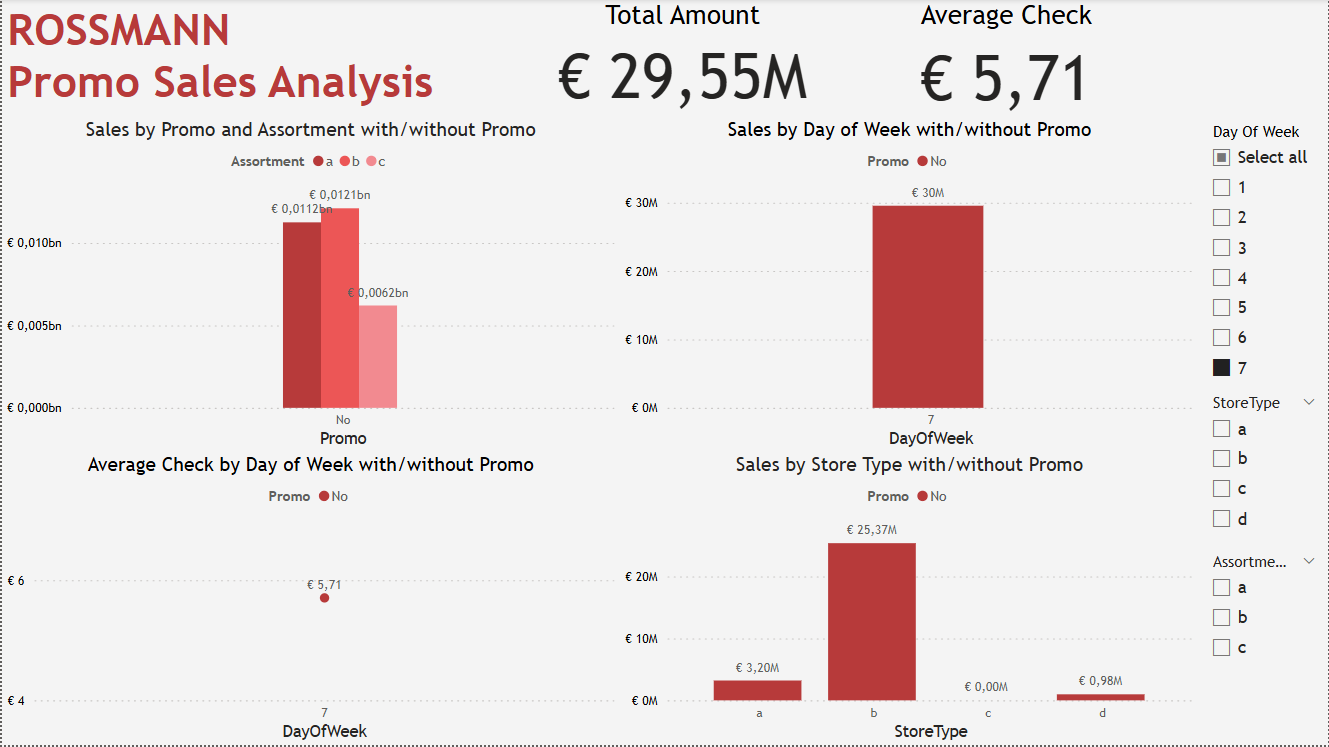

This screenshot's page, from the dashboard's own definition file:
{"tool":"powerbi","page":{"name":"Promo Sales","canvas":[1280,720],"ordinal":0},"visuals":[{"type":"clusteredColumnChart","title":"Sales by Promo and Assortment with/without Promo","fields":{"Category":["train.Promo"],"Y":["Sum(train.Sales)"],"Series":["store.Assortment"]},"box":[0,114.6,596,323.3],"z":0},{"type":"clusteredColumnChart","title":"Sales by Day of Week with/without Promo","fields":{"Category":["train.DayOfWeek"],"Y":["Sum(train.Sales)"],"Series":["train.Promo"]},"box":[596,114.6,559.8,323.3],"z":1000},{"type":"areaChart","title":"Average Check by Day of Week with/without Promo","fields":{"Category":["train.DayOfWeek"],"Y":["train.AvgCheck"],"Series":["train.Promo"]},"box":[0,437.9,596,282.3],"z":2000},{"type":"clusteredColumnChart","title":"Sales by Store Type with/without Promo","fields":{"Category":["store.StoreType"],"Y":["Sum(train.Sales)"],"Series":["train.Promo"]},"box":[596,437.9,559.8,282.3],"z":3000},{"type":"slicer","fields":{"Values":["train.DayOfWeek"]},"box":[1155.8,114.6,124.3,261.8],"z":4000},{"type":"slicer","fields":{"Values":["store.StoreType"]},"box":[1155.8,376.4,124.3,179.8],"z":5000},{"type":"slicer","fields":{"Values":["store.Assortment"]},"box":[1155.8,529.6,124.3,154.4],"z":6000},{"type":"textbox","box":[0,0,520,114.6],"z":7000},{"type":"card","title":"Total Amount","fields":{"Values":["Sum(train.Sales)"]},"box":[504.3,0,305.2,114.6],"z":8000},{"type":"card","title":"Average Check","fields":{"Values":["train.AvgCheck"]},"box":[856.6,0,225.6,114.6],"z":9000}]}

Visuals, with their boxes in screenshot pixels (x1, y1, x2, y2), scaled from the page's 1280x720 canvas onto the 1329x747 screenshot:
"Sales by Promo and Assortment with/without Promo" clusteredColumnChart: x1=0 y1=119 x2=619 y2=454
"Sales by Day of Week with/without Promo" clusteredColumnChart: x1=619 y1=119 x2=1200 y2=454
"Average Check by Day of Week with/without Promo" areaChart: x1=0 y1=454 x2=619 y2=746
"Sales by Store Type with/without Promo" clusteredColumnChart: x1=619 y1=454 x2=1200 y2=746
slicer - train.DayOfWeek: x1=1200 y1=119 x2=1328 y2=391
slicer - store.StoreType: x1=1200 y1=391 x2=1328 y2=577
slicer - store.Assortment: x1=1200 y1=549 x2=1328 y2=710
textbox: x1=0 y1=0 x2=540 y2=119
"Total Amount" card: x1=524 y1=0 x2=840 y2=119
"Average Check" card: x1=889 y1=0 x2=1124 y2=119
